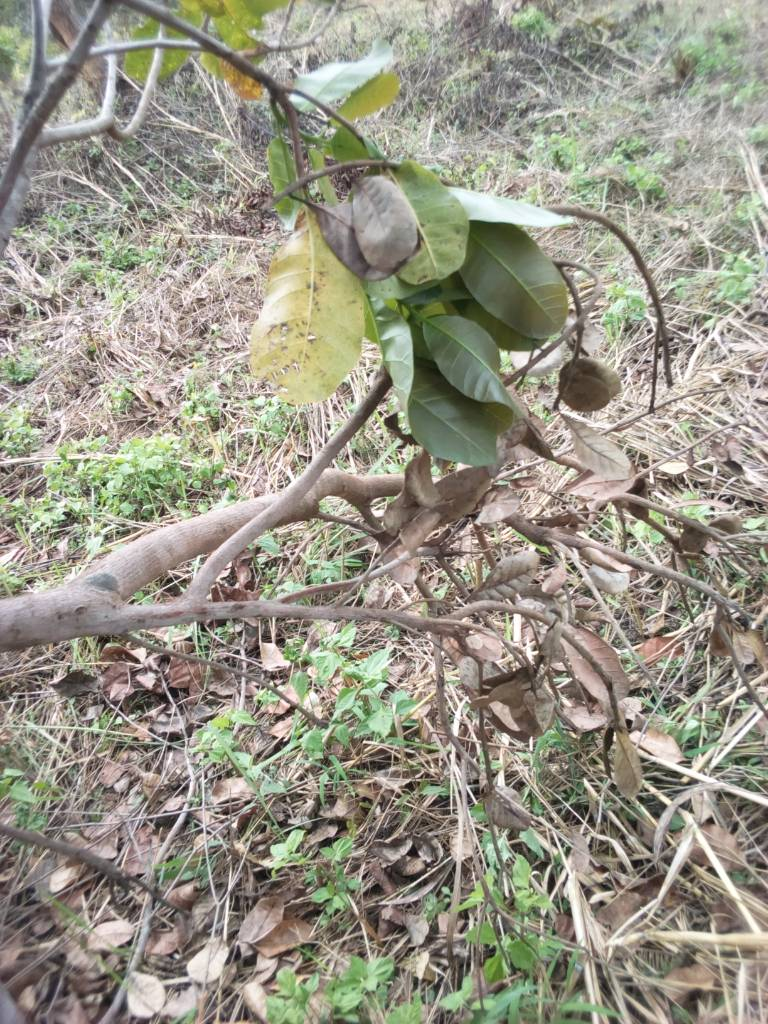Dessèchement des bourgeons: (458, 613, 654, 805), (302, 164, 416, 267)
